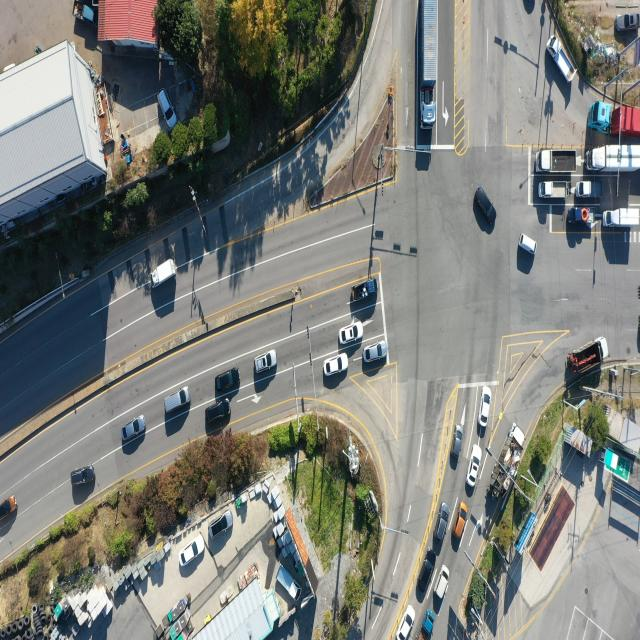car: (180, 532, 206, 570), (471, 189, 497, 221), (157, 91, 176, 133), (167, 385, 193, 412), (398, 604, 417, 640), (466, 444, 482, 486), (209, 511, 232, 540), (418, 554, 435, 593), (339, 321, 364, 345), (123, 416, 147, 441), (214, 369, 239, 393), (449, 422, 462, 468), (255, 350, 279, 374), (326, 354, 351, 377), (205, 402, 229, 425), (364, 342, 389, 364), (70, 468, 95, 489), (438, 502, 451, 542), (480, 387, 492, 429), (615, 11, 640, 31), (0, 497, 18, 524), (438, 564, 450, 600)
large_truck: (421, 0, 439, 128), (588, 103, 640, 139)
medium_truck: (487, 422, 525, 515), (587, 143, 640, 173), (570, 336, 610, 374), (540, 147, 580, 174), (604, 206, 640, 229)
small_truck: (547, 34, 577, 81), (276, 564, 301, 600), (450, 503, 468, 550), (152, 259, 178, 291), (351, 276, 378, 304), (540, 183, 571, 202), (576, 179, 604, 199), (72, 0, 97, 21), (420, 606, 436, 636), (518, 233, 536, 258), (571, 206, 593, 225)
